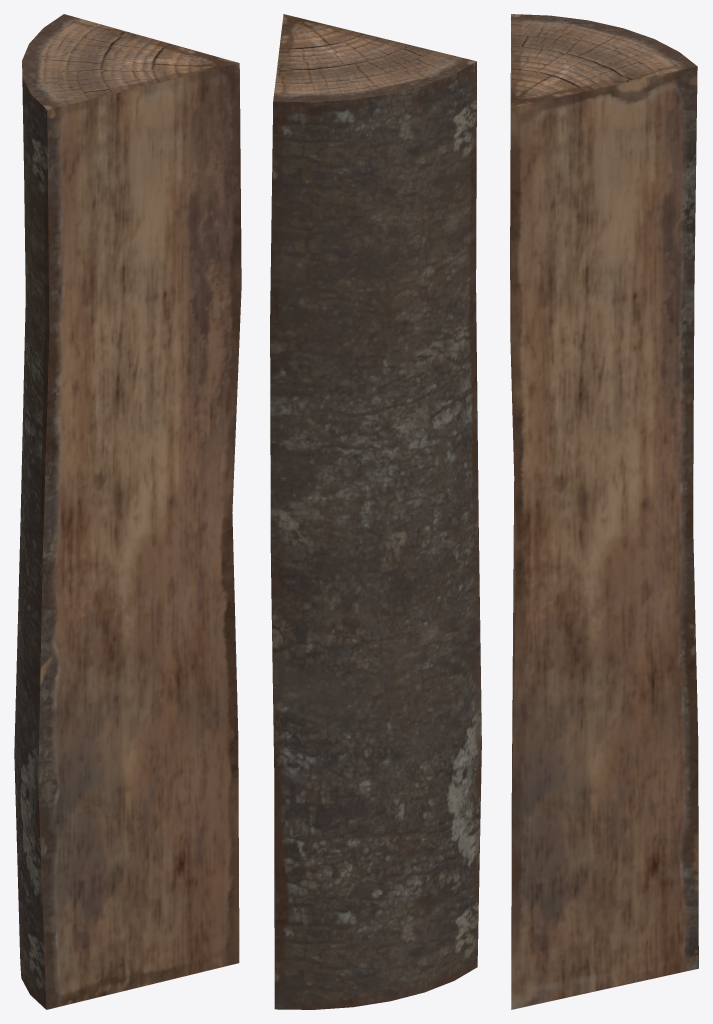
Rendered from SM_WoodLogs_3.fbx.
The picture shows the model from 3 angles, left to right: view 1: azimuth 30°, elevation 25°; view 2: azimuth 150°, elevation 25°; view 3: azimuth 270°, elevation 25°; orthographic projection.
Visible parts, largest first — view 1: SM_WoodLogs_3_LOD0; view 2: SM_WoodLogs_3_LOD0; view 3: SM_WoodLogs_3_LOD0.
Boxes of the visible parts, x1,y1,x2,y2 form: SM_WoodLogs_3_LOD0: [14, 14, 241, 1009]; SM_WoodLogs_3_LOD0: [270, 14, 481, 1009]; SM_WoodLogs_3_LOD0: [510, 14, 698, 1009].
Size of the model in its own units: 13.42 by 10.9 by 57.55.
